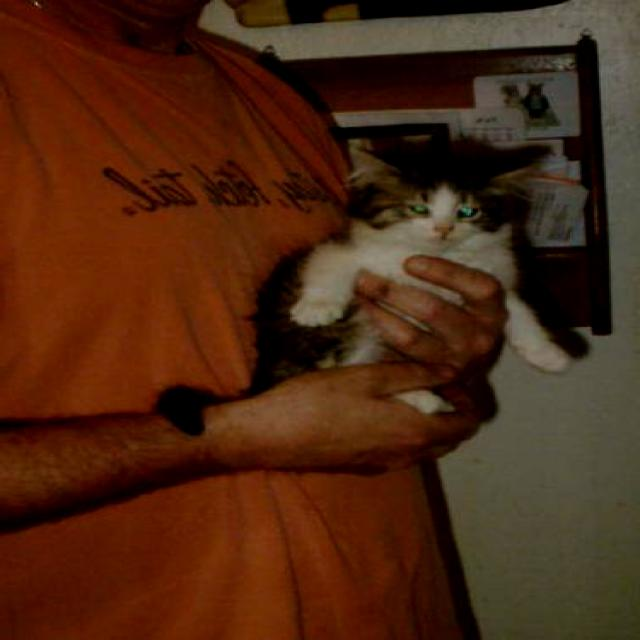Kucing: (230, 125, 604, 392)
